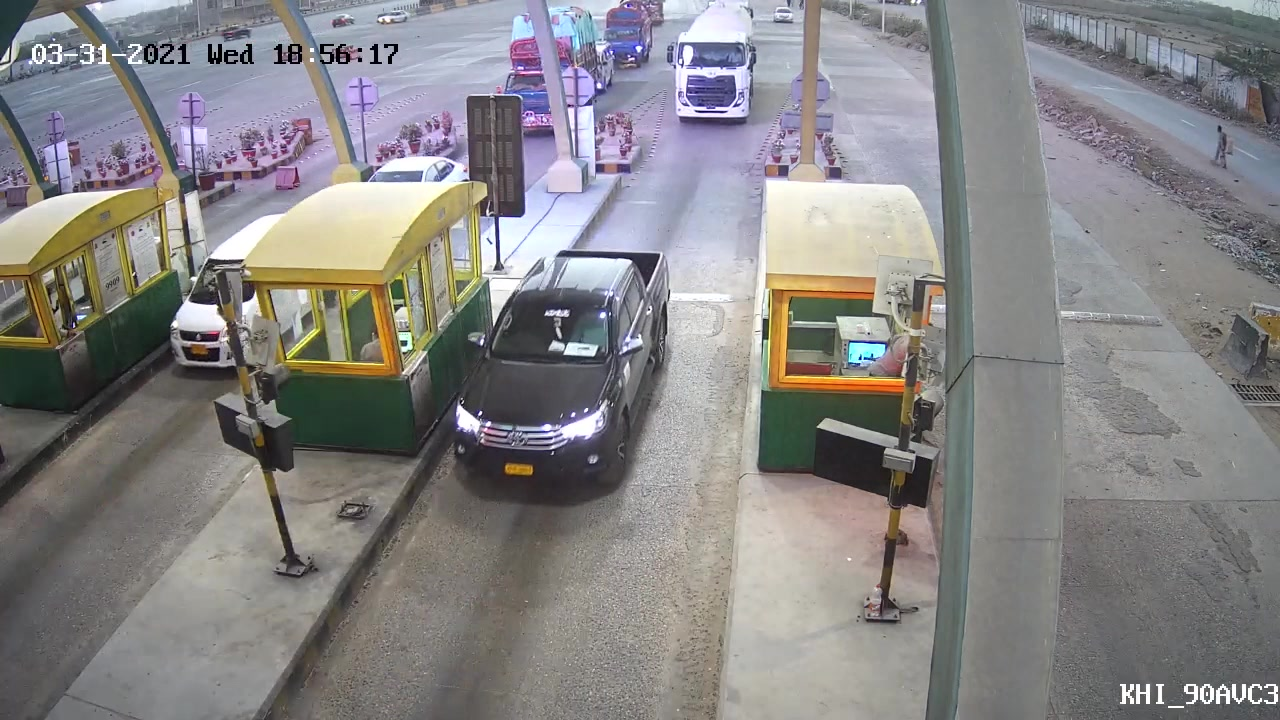F1: (442, 227, 684, 489)
